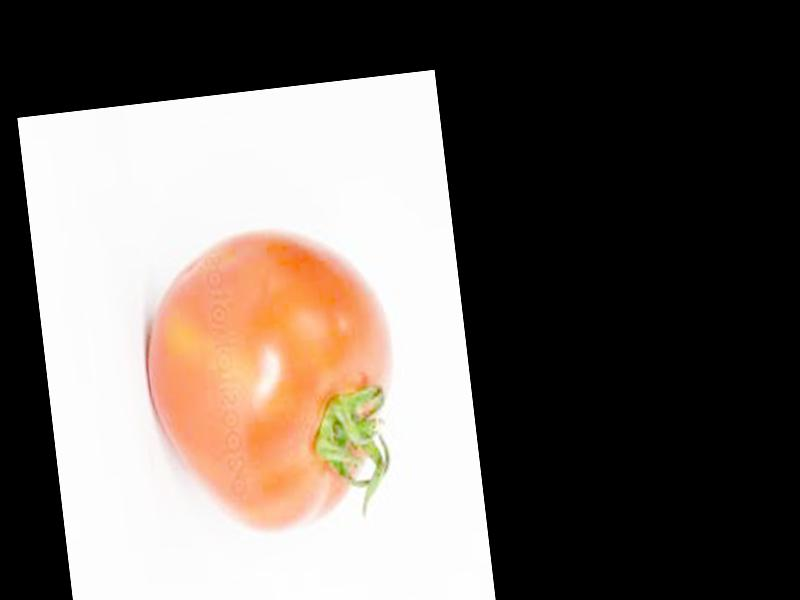Tomato: (134, 217, 414, 543)
